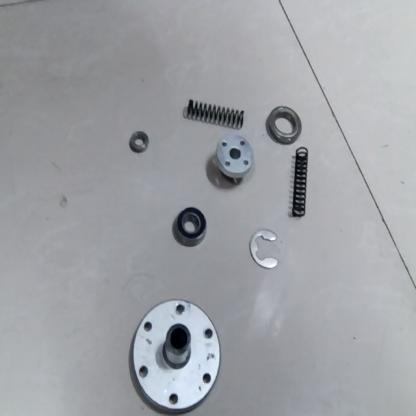FOD: (128, 298, 224, 416), (185, 92, 247, 129), (214, 134, 256, 186), (263, 102, 305, 142), (173, 204, 211, 248), (247, 227, 283, 272), (291, 146, 312, 221), (125, 126, 151, 154)
